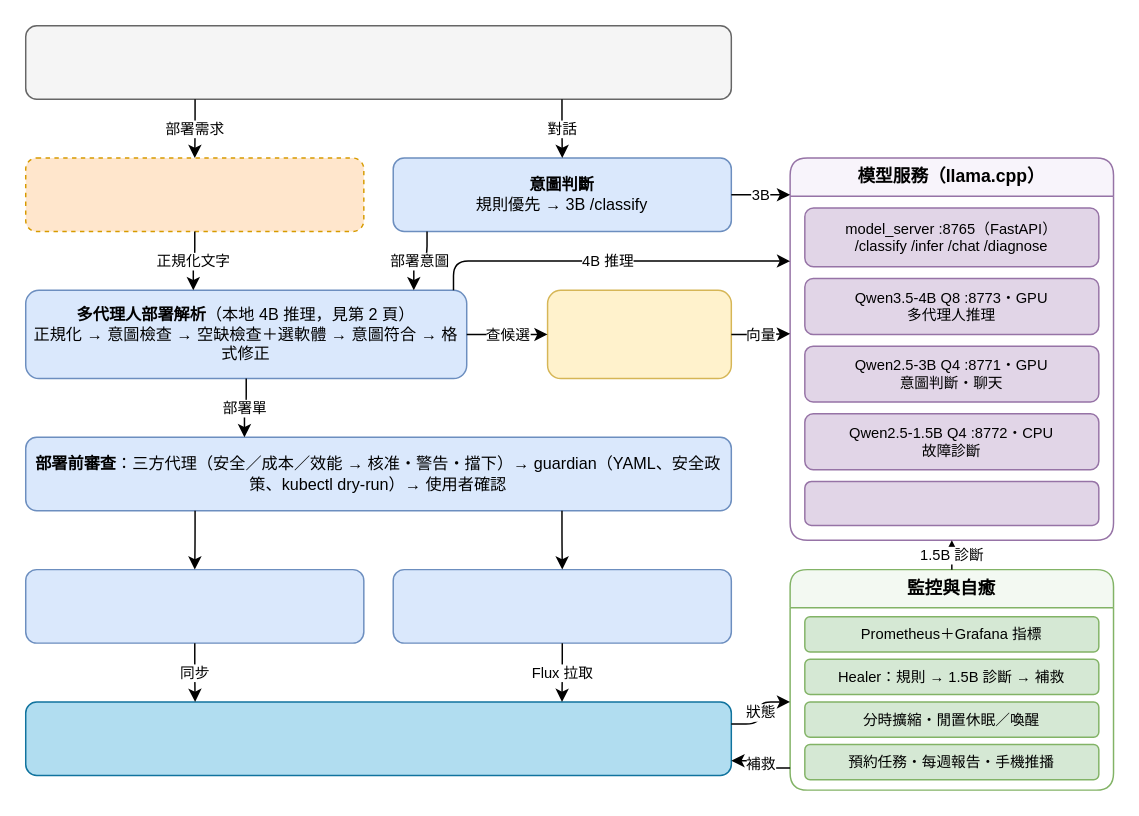
Some shapes in this 1139 by 816 pixel diagram are drawn without their labels. The centre of each missing label's shape, as x and y in pixels:
"BGE-M3 向量模型・GPU" belongs at [951,503].
"Gemini 翻譯層 （外部、付費） 中英口語 → 正規化需求" belongs at [194,194].
"GitOps ：寫入 manifest → Argo CD 同步（可回滾）" belongs at [194,605].
"Kubernetes 叢集 （每個帳號一個 namespace：user-帳號）" belongs at [377,737].
"RAG 欄位檢索 BGE-M3＋BM25 軟體目錄 57 套・情境範例" belongs at [638,334].
"使用者 ：網站 Web Dashboard :5050（對話／部署單）・手機 /m（唯讀監控、推播）・CLI" belongs at [377,61].
"客戶自帶叢集 ：私有 repo → Flux 拉取；唯讀回報器回傳狀態" belongs at [561,605].
